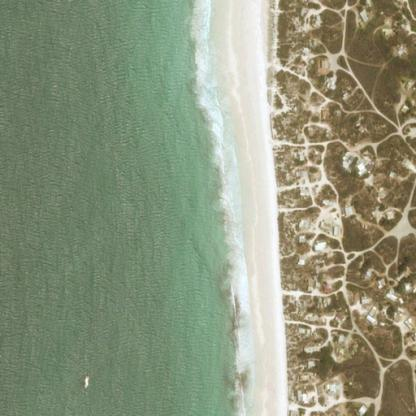ship: (77, 372, 94, 392)
